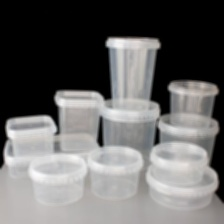plastic_box: (95, 93, 164, 175), (0, 129, 104, 182), (101, 30, 164, 115), (141, 160, 222, 213), (82, 140, 148, 203), (50, 84, 109, 154), (152, 109, 223, 167), (25, 149, 91, 209), (145, 137, 212, 189), (163, 75, 222, 132), (1, 109, 62, 160)
